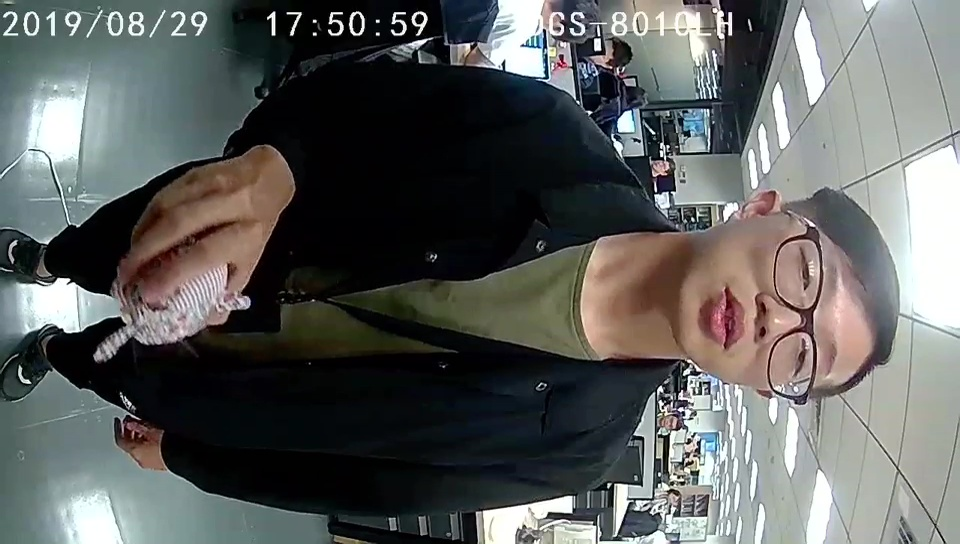pig: (115, 263, 250, 344)
